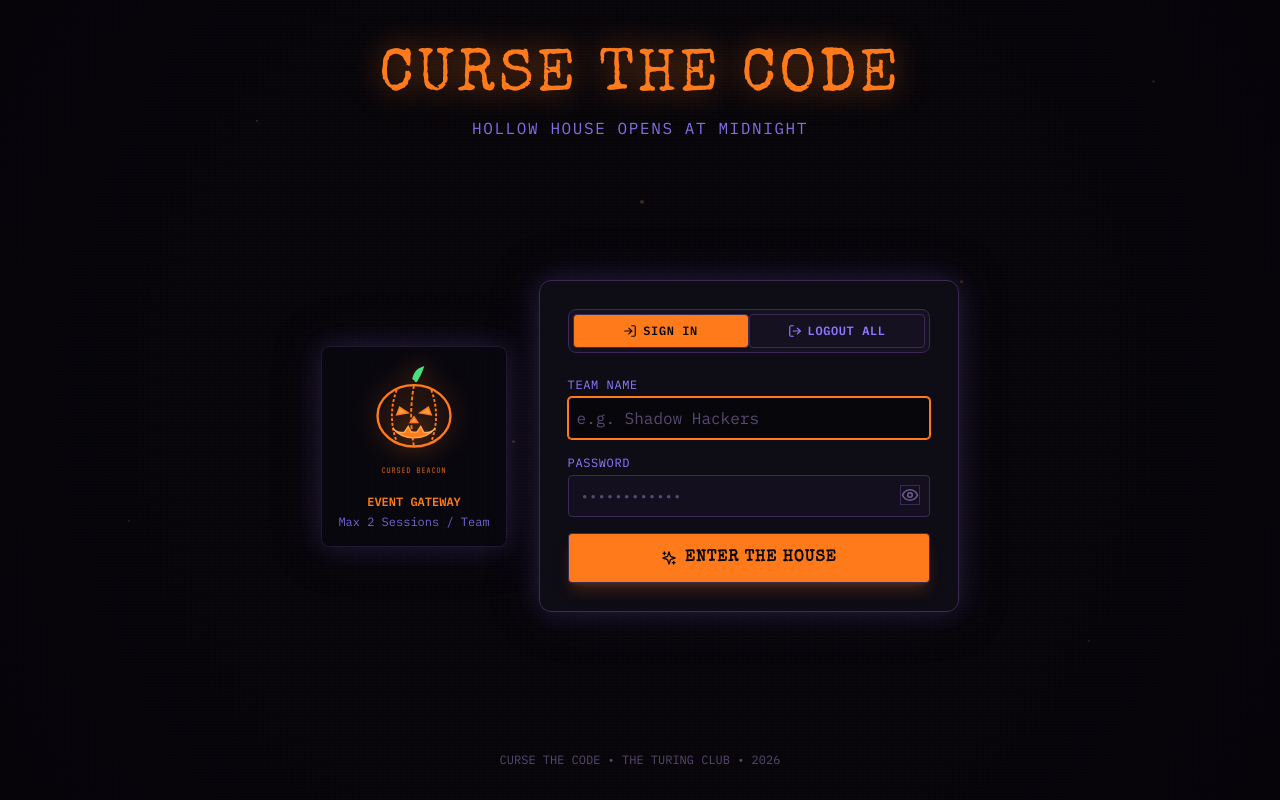
it: LoginPage / UserLogin regression suite › sign_in_disables_button_while_pending
Step 1. Type "Team Cipher" into the field with placeholder "e.g. Shadow Hackers" → (749, 418), box top-left (568, 397), bottom-right (930, 439)
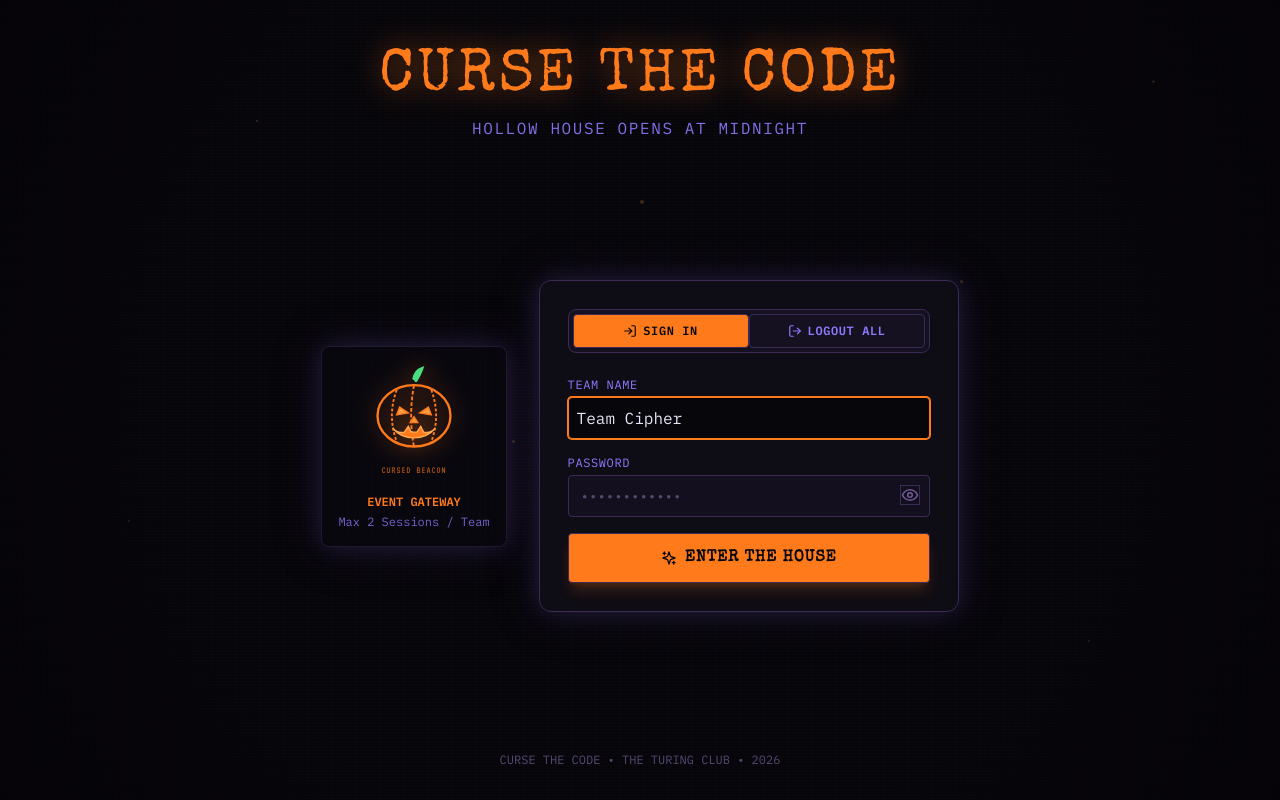
Step 2. Type "password123" into the password field with placeholder "••••••••••••" → (749, 496), box top-left (568, 475), bottom-right (930, 517)
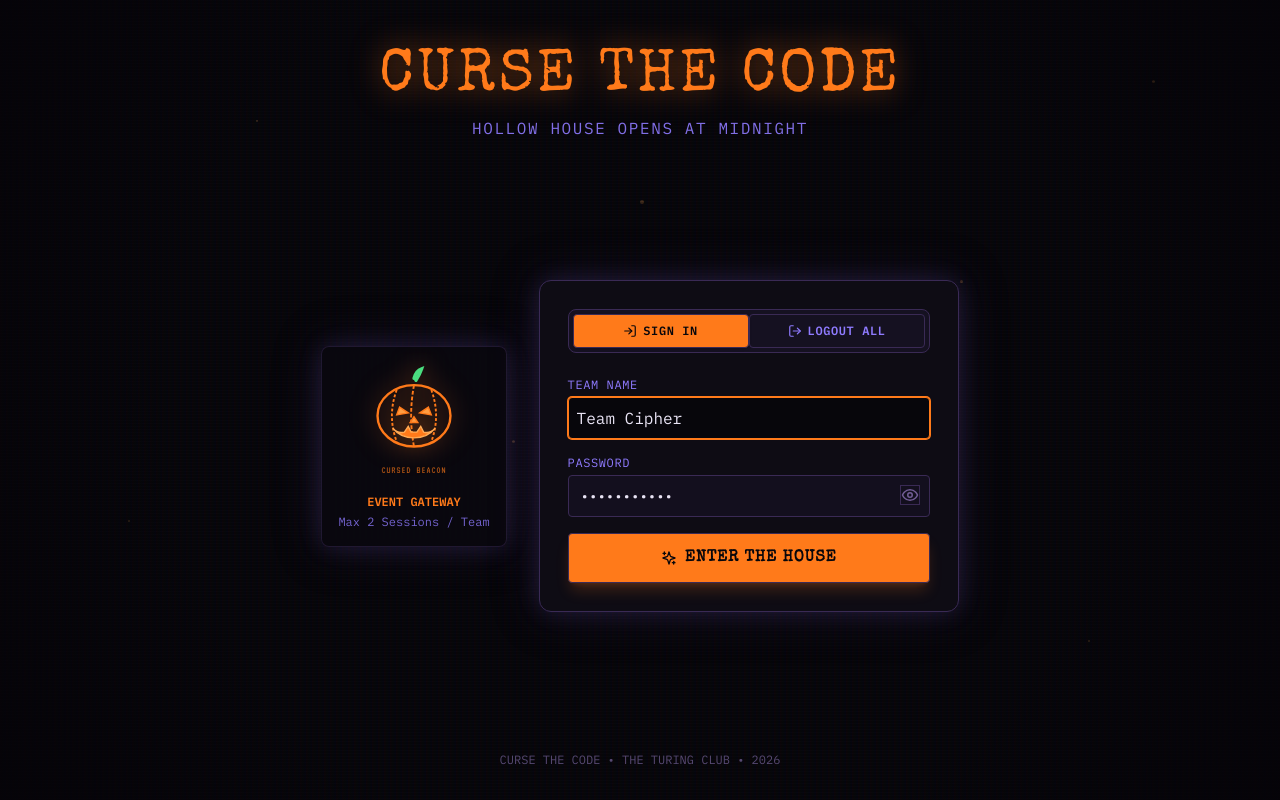
Step 3. Click the button "ENTER THE HOUSE" → (749, 558), box top-left (568, 533), bottom-right (930, 583)
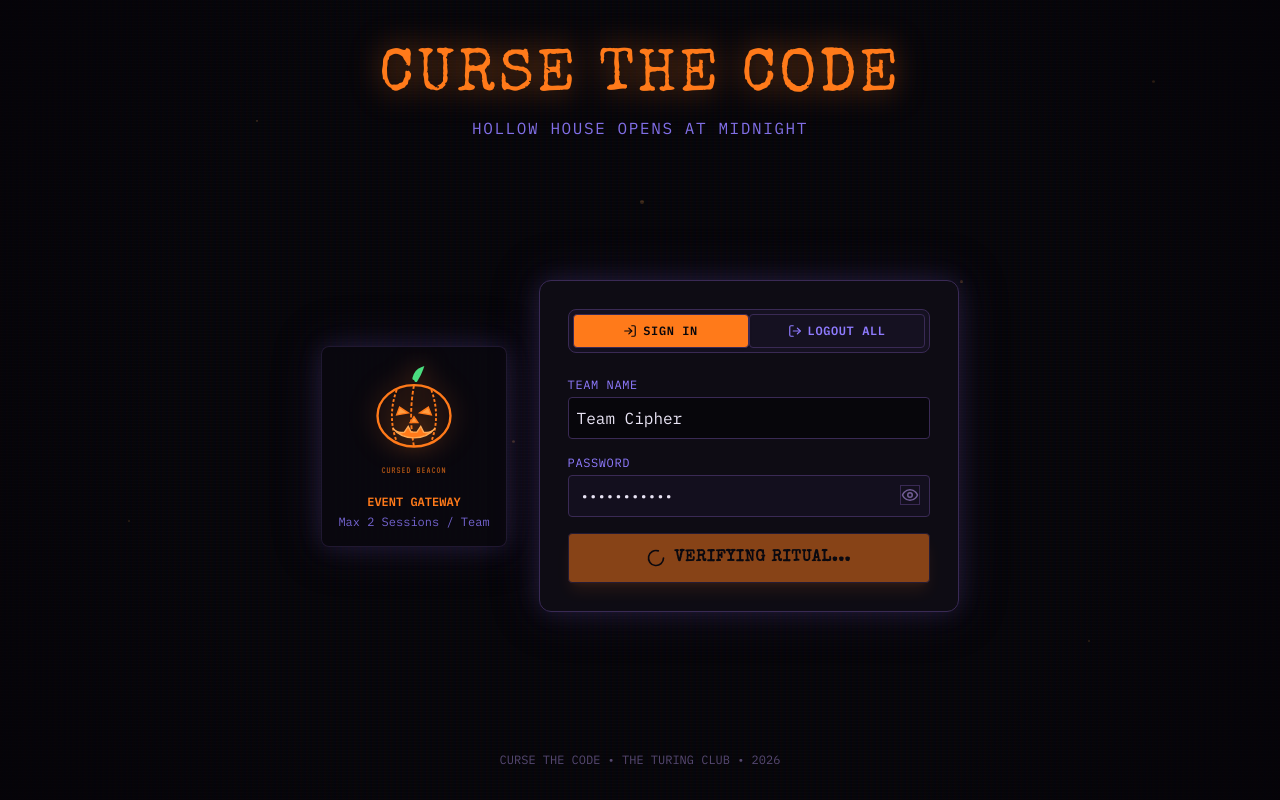
expect the text "VERIFYING RITUAL..." is shown: met, box top-left (674, 546), bottom-right (851, 570)
expect the button "VERIFYING RITUAL..." is disabled: met, box top-left (568, 533), bottom-right (930, 583)
